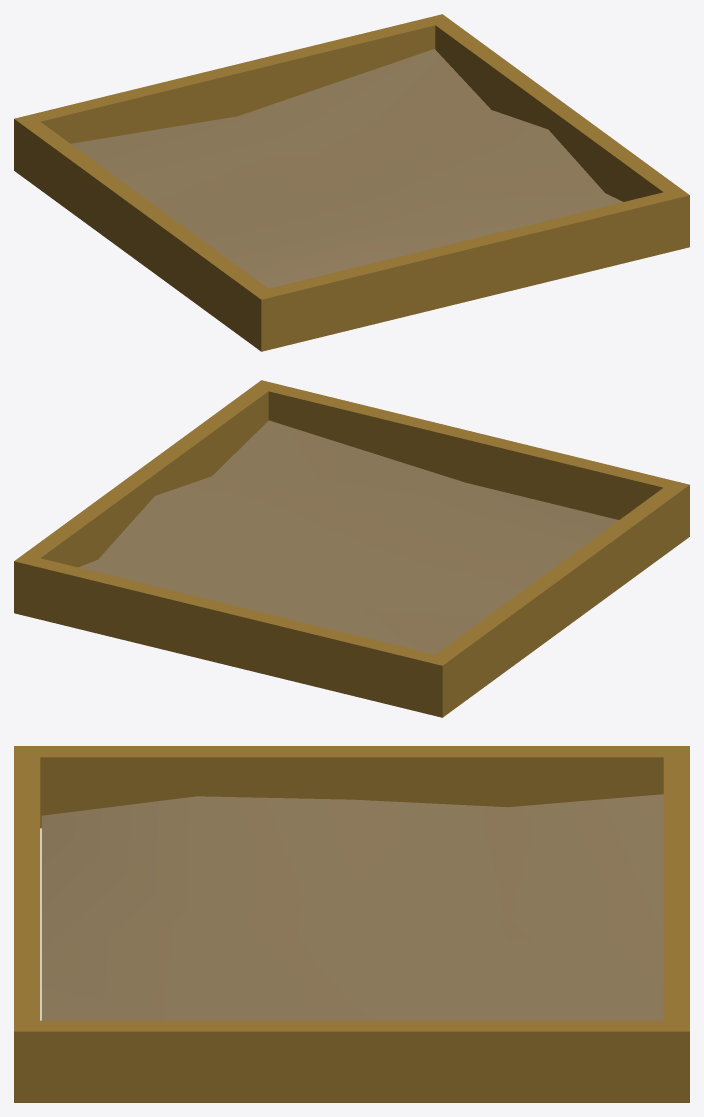
File: FBX_plotofland.fbx
3 renders of one model, top to bottom at view 1: azimuth 30°, elevation 25°; view 2: azimuth 150°, elevation 25°; view 3: azimuth 270°, elevation 25°, orthographic. The views are drawn at different scales.
Visible parts, largest first — view 1: Plot_of_soil; view 2: Plot_of_soil; view 3: Plot_of_soil.
Boxes of the visible parts, x1,y1,x2,y2 form: Plot_of_soil: (14, 14, 689, 351); Plot_of_soil: (14, 380, 689, 717); Plot_of_soil: (14, 746, 689, 1102).
Size of the model in its own units: 78.05 by 9.05 by 78.05.
